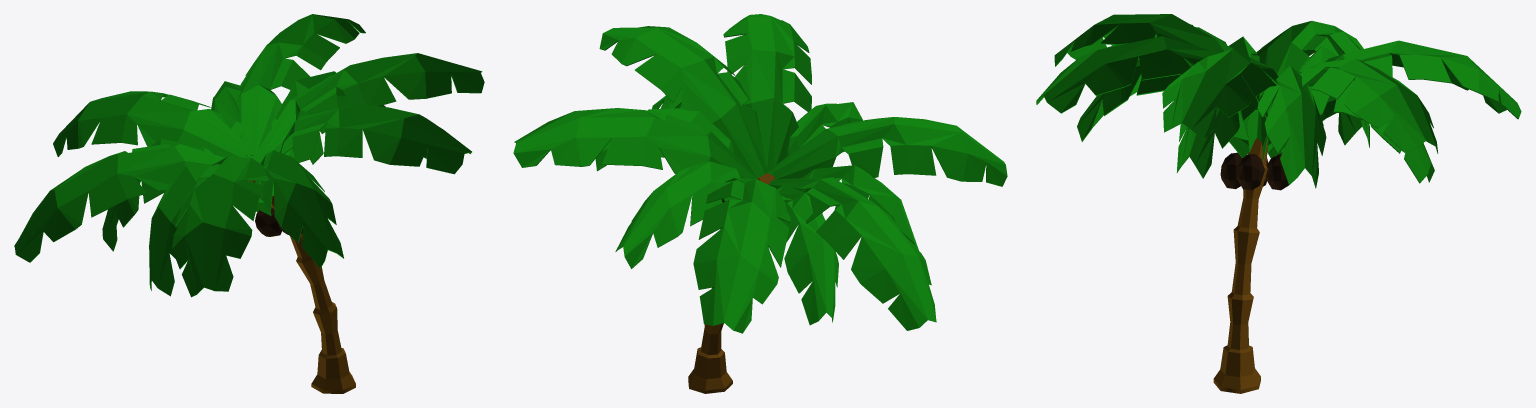
The model's file is palmtree.fbx.
3 views of the same model, side by side, from view 1: azimuth 30°, elevation 25°; view 2: azimuth 150°, elevation 25°; view 3: azimuth 270°, elevation 25° (orthographic). The views are drawn at different scales.
Visible parts, largest first — view 1: Plane271; view 2: Plane271; view 3: Plane271.
Part boxes in pixels (box(x1,y1,x2,y2)): Plane271: box(14, 14, 484, 393); Plane271: box(513, 14, 1007, 393); Plane271: box(1036, 14, 1521, 393).
Size of the model in its own units: 61.84 by 48.15 by 60.91.
